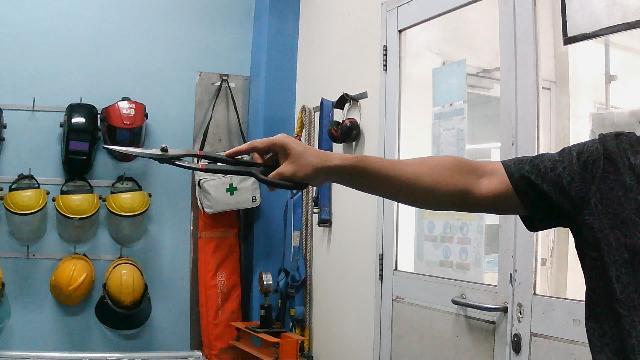gunting_plat: (98, 138, 311, 196)
